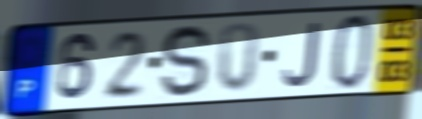0: (328, 12, 376, 93), (216, 20, 262, 97)
2: (101, 28, 149, 102)
6: (55, 31, 97, 105)
J: (281, 20, 321, 89)
S: (159, 22, 213, 102)
